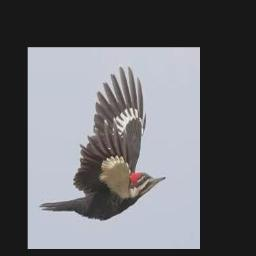Woodpecker: (39, 66, 166, 219)
